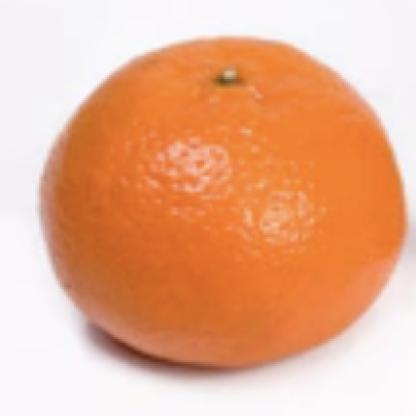fresh: (41, 35, 405, 370)
